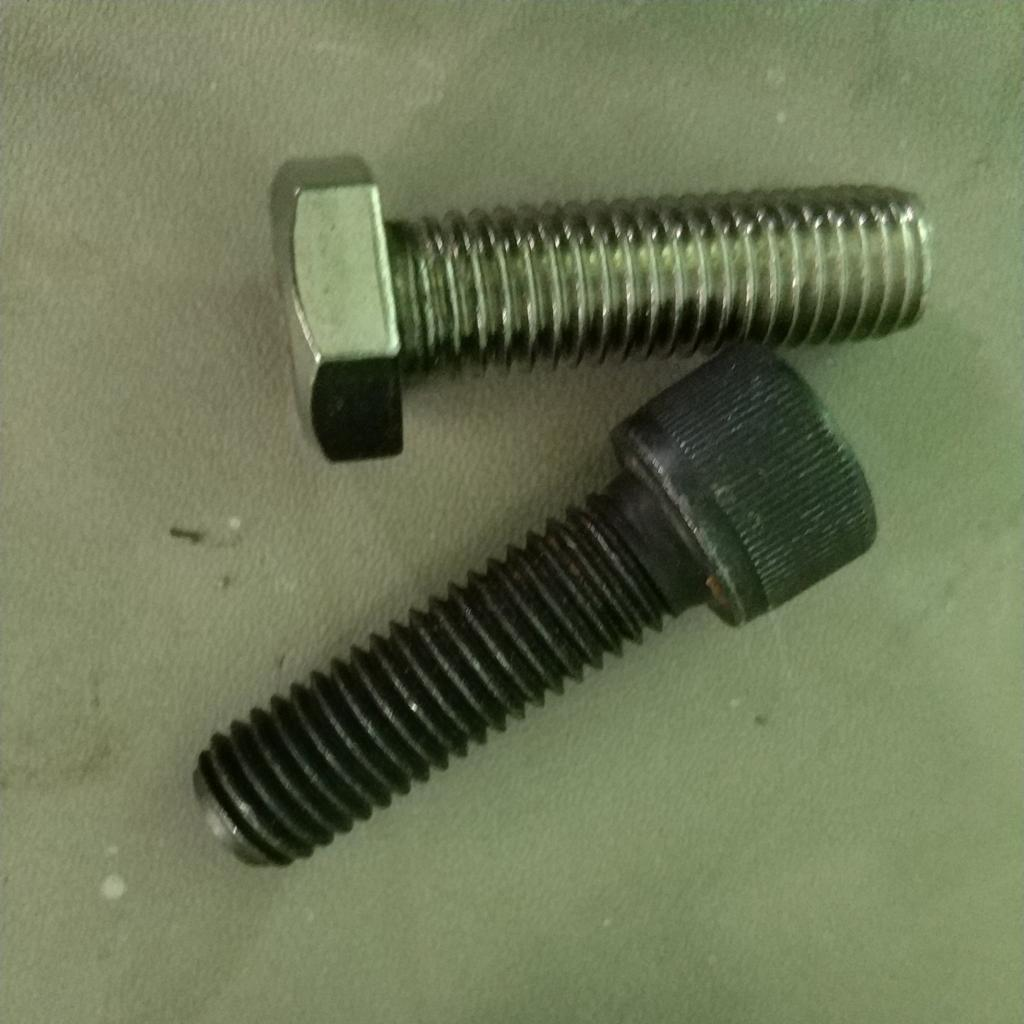screwtype1black: (569, 341, 881, 660)
screwtype2silver: (259, 136, 576, 472)
